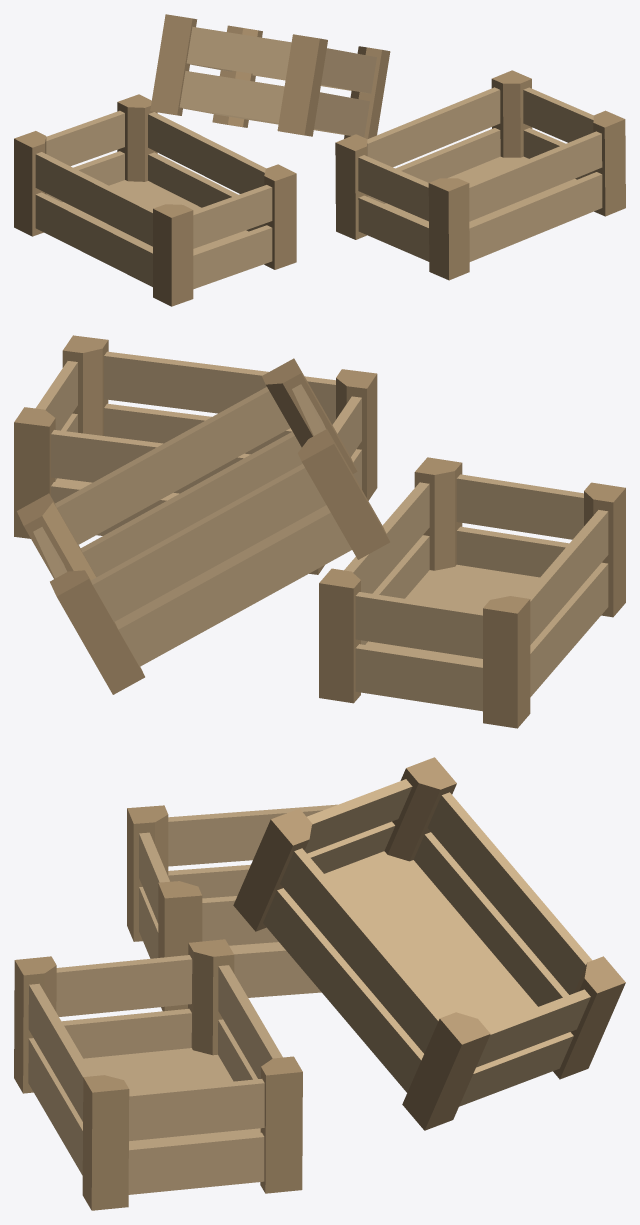
Rendered from Crates01.fbx.
3 views of the same model, one above another, from view 1: azimuth 30°, elevation 25°; view 2: azimuth 150°, elevation 25°; view 3: azimuth 270°, elevation 25° (orthographic). The views are drawn at different scales.
Parts seen in each view (by area): view 1: Crates01; view 2: Crates01; view 3: Crates01.
Boxes of the visible parts, bbox=[...] form: Crates01: bbox=[14, 14, 625, 306]; Crates01: bbox=[14, 335, 625, 728]; Crates01: bbox=[14, 757, 625, 1210].
Size of the model in its own units: 3.38 by 1.23 by 2.82.
